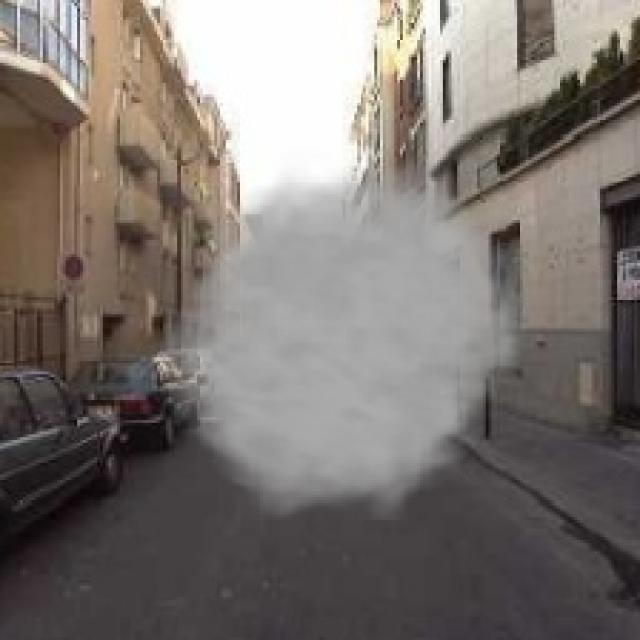Smoke: (142, 148, 538, 520)
